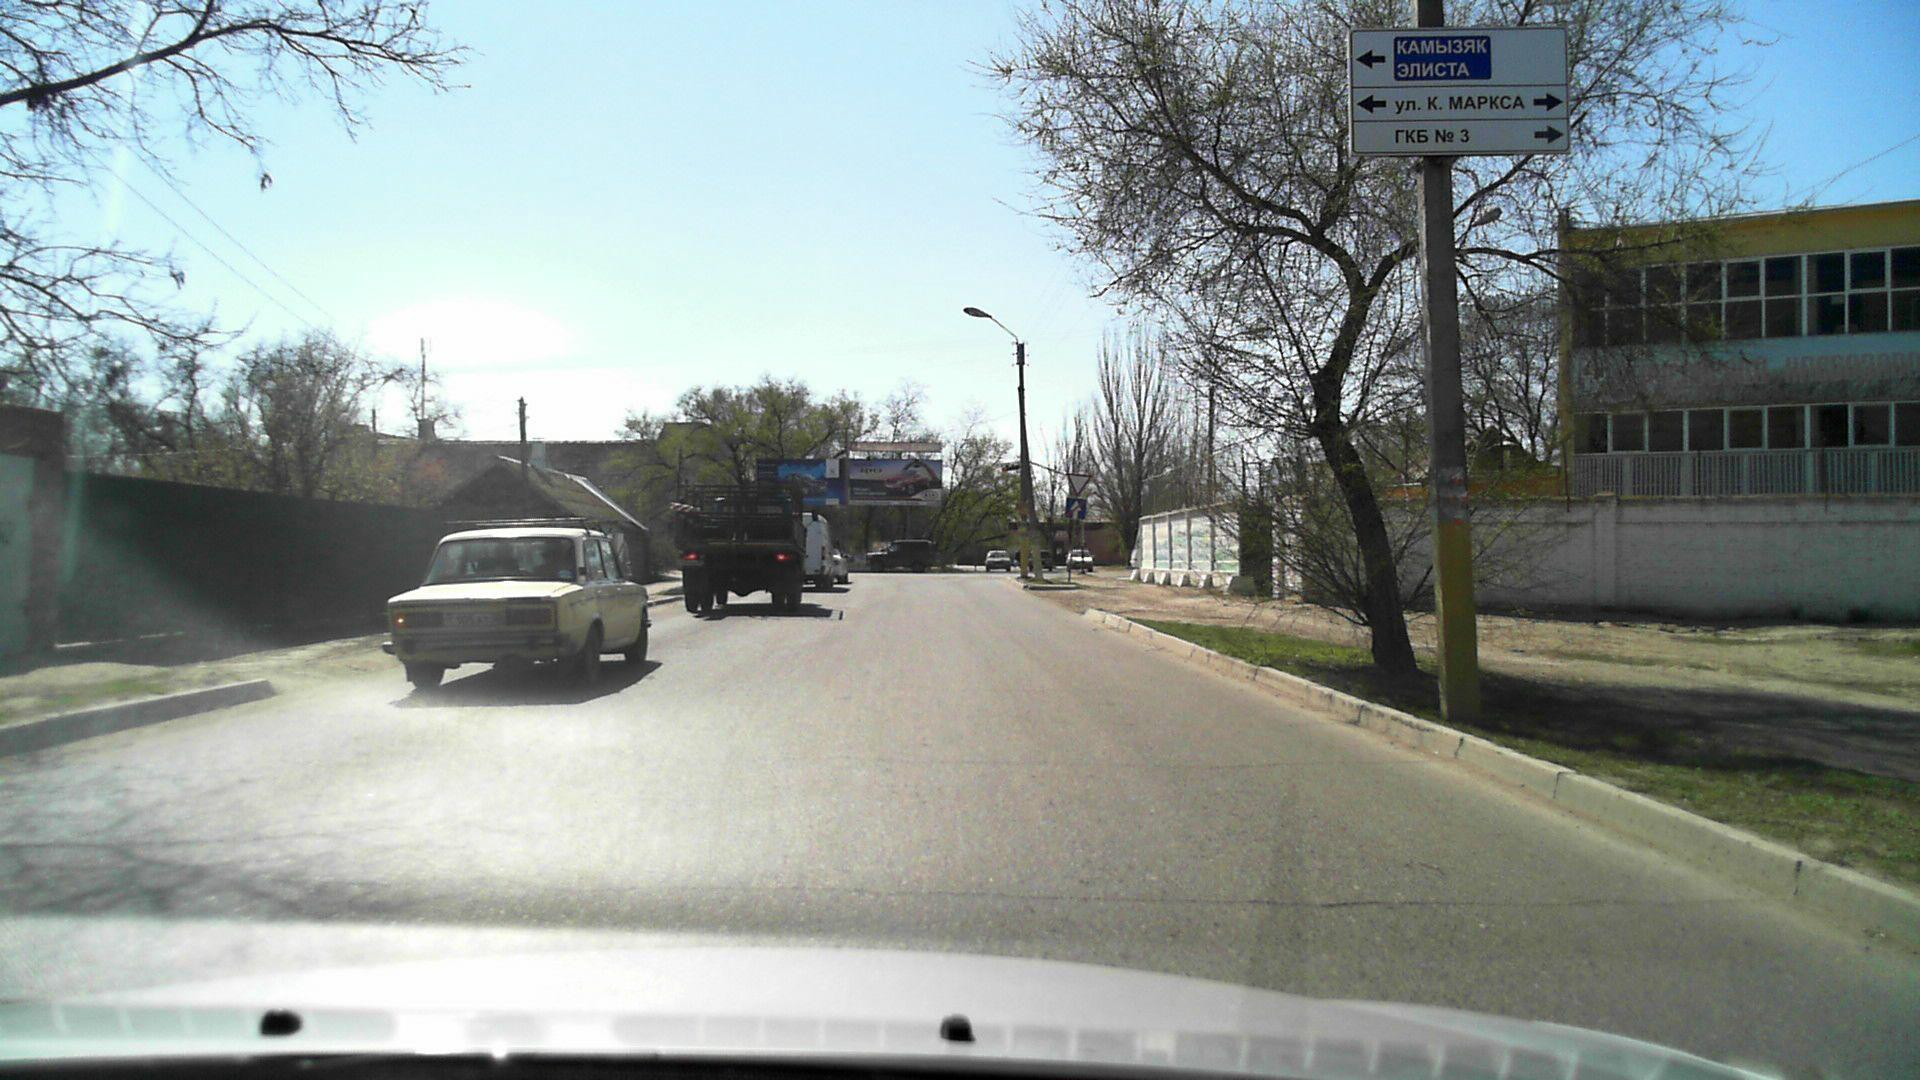2_4: (1067, 469, 1091, 495)
5_6: (1065, 496, 1091, 522)
6_10_1: (1348, 24, 1568, 158)
